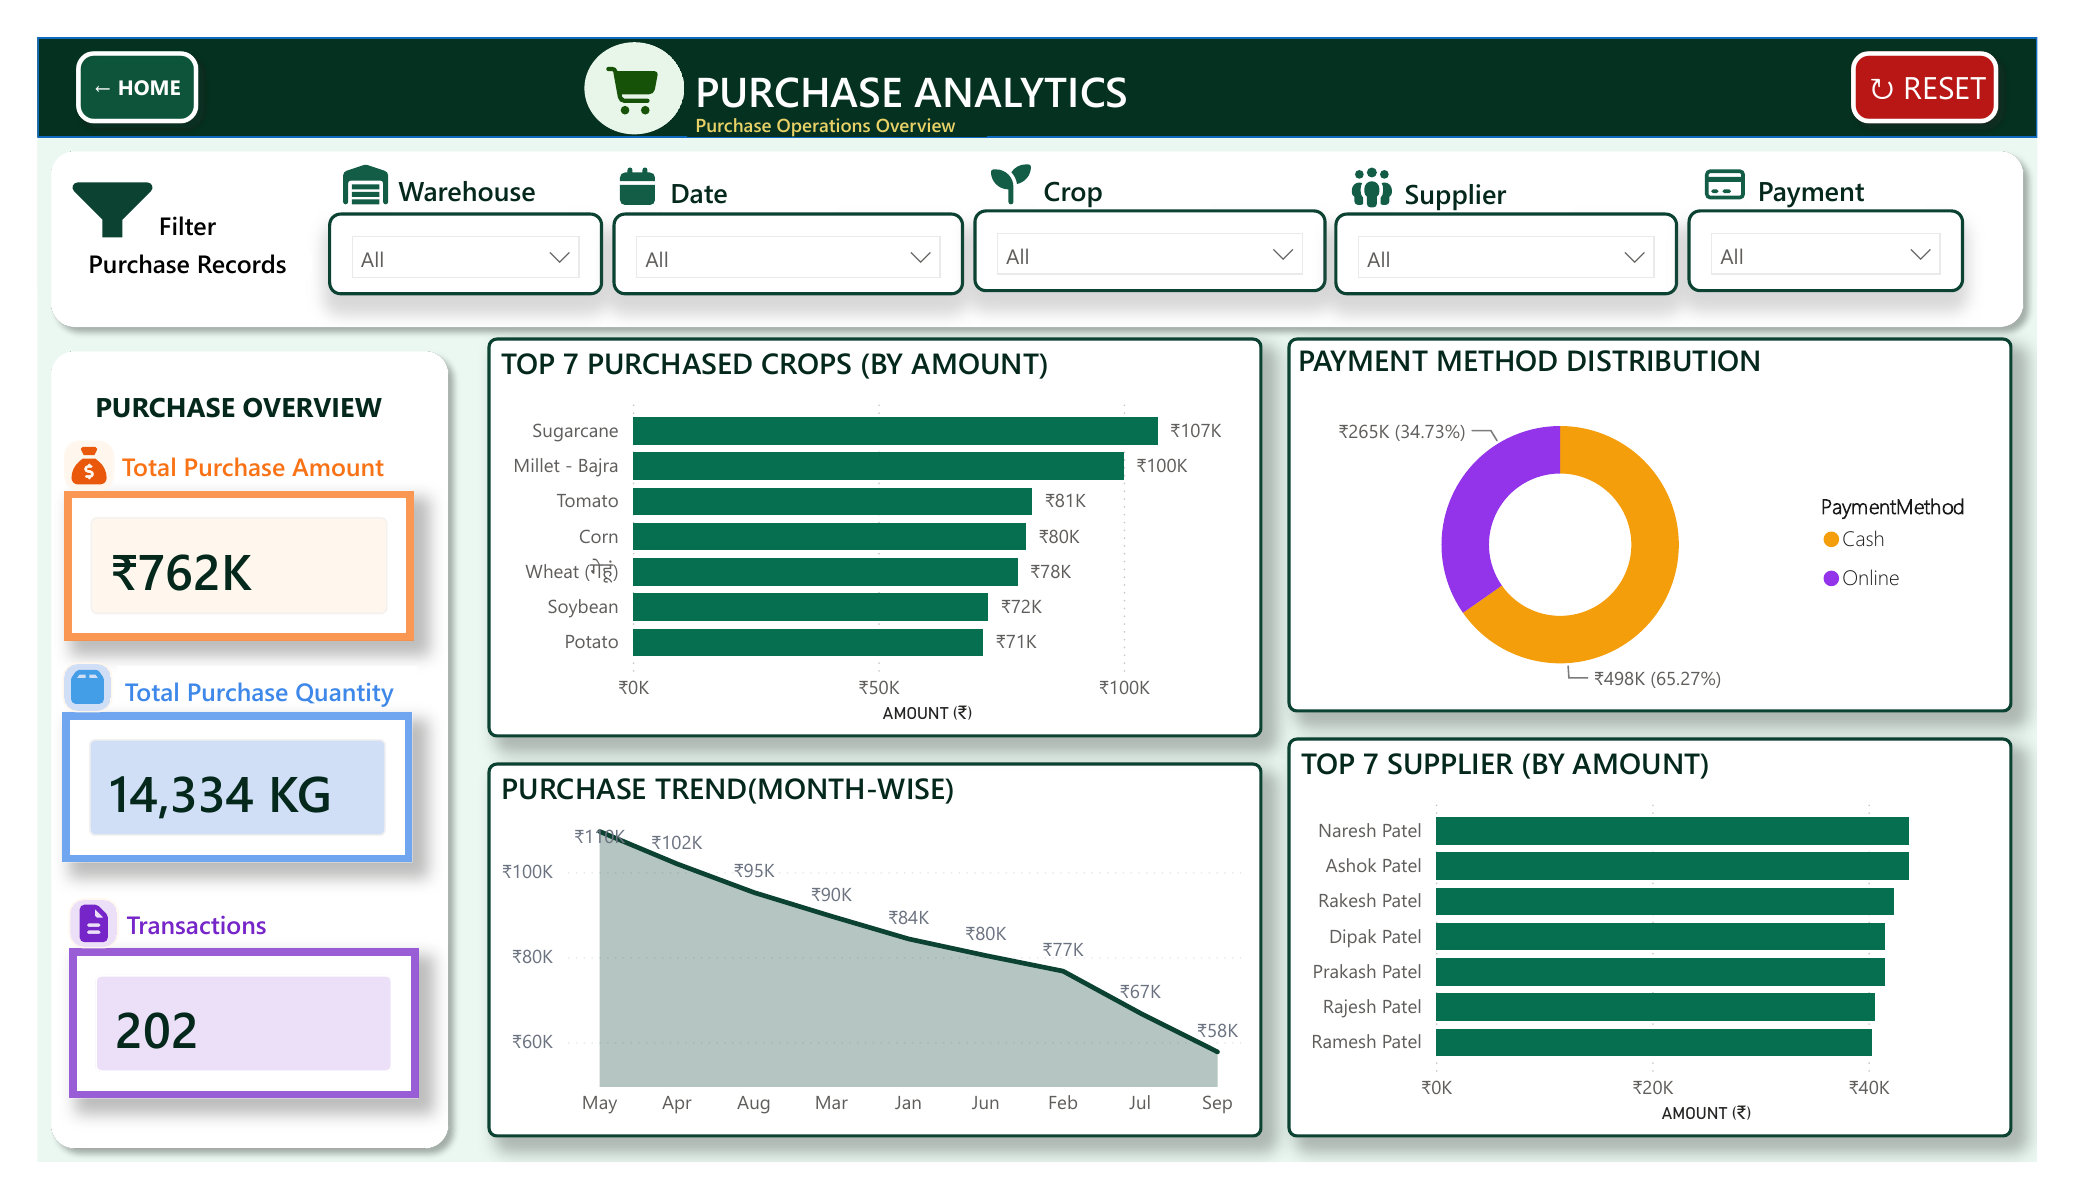

This screenshot's page, from the dashboard's own definition file:
{"tool":"powerbi","page":{"name":"PURCHASE ANALYTICS","canvas":[1280,720],"ordinal":1},"visuals":[{"type":"shape","box":[0,0,1280,64],"z":0},{"type":"actionButton","box":[16,0,96,64],"z":1000},{"type":"textbox","title":"PURCHASE ANALYTICS","box":[416,16,336,32],"z":2000},{"type":"textbox","title":"Purchase Operations Overview","box":[416,48,192,16],"z":3000},{"type":"actionButton","box":[1152,0,112,64],"z":4000},{"type":"shape","box":[0,64,1280,130],"z":5000},{"type":"shape","box":[64,96,64,48],"z":6000},{"type":"image","box":[16,80,64,64],"z":7000},{"type":"shape","box":[48,224,128,16],"z":8000},{"type":"slicer","title":"Warehouse","fields":{"Values":["Purchase.Warehouse"]},"box":[186,112.2,176,53],"z":9000},{"type":"image","box":[194.2,78.4,32,32],"z":10000},{"type":"shape","box":[0,192,272,528],"z":11000},{"type":"textbox","title":"Warehouse","box":[226.2,86.4,112,24],"z":12000},{"type":"slicer","title":"Warehouse","fields":{"Values":["Purchase.PurchaseDate"]},"box":[368,112,225,53],"z":13000},{"type":"image","box":[368,80,32,32],"z":14000},{"type":"textbox","title":"Date","box":[400,80,112,32],"z":15000},{"type":"slicer","title":"Warehouse","fields":{"Values":["Purchase.Crop"]},"box":[599.3,109.6,226,53],"z":16000},{"type":"image","box":[607.3,77.6,32,32],"z":17000},{"type":"textbox","title":"Crop","box":[639.3,85.6,112,24],"z":18000},{"type":"slicer","title":"Warehouse","fields":{"Values":["Purchase.FarmerName"]},"box":[830.4,112,220,53],"z":19000},{"type":"image","box":[838.4,80,32,32],"z":20000},{"type":"textbox","title":"Supplier","box":[870.4,88,112,24],"z":21000},{"type":"slicer","title":"Warehouse","fields":{"Values":["Purchase.PaymentMethod"]},"box":[1056.2,110.2,177,53],"z":22000},{"type":"image","box":[1064.2,78.2,32,32],"z":23000},{"type":"textbox","title":"Payment","box":[1096.2,86.2,112,24],"z":24000},{"type":"shape","box":[16,128,160,32],"z":25000},{"type":"shape","box":[350.2,0,64,64],"z":26000},{"type":"image","box":[350.2,16,64,37],"z":27000},{"type":"textbox","title":"PURCHASE OVERVIEW","box":[32,224,208,32],"z":28000},{"type":"textbox","title":"Total Purchase Amount","box":[49.1,258.3,192,32],"z":29000},{"type":"cardVisual","fields":{"Data":["Purchase.Total Purchase Amount"]},"box":[17.1,290.3,224,96],"z":30000},{"type":"image","box":[17.1,258.3,32,32],"z":31000},{"type":"textbox","title":"Total Purchase Quantity","box":[51.1,401.7,192,32],"z":32000},{"type":"cardVisual","fields":{"Data":["Purchase.Total Purchase Quantity"]},"box":[16,432,224,96],"z":33000},{"type":"image","box":[16,400,32,32],"z":34000},{"type":"textbox","title":"Transactions","box":[51.7,550.5,192,32],"z":35000},{"type":"cardVisual","fields":{"Data":["Purchase.Total Purchase Rows"]},"box":[19.7,582.5,224,96],"z":36000},{"type":"image","box":[19.7,550.5,32,32],"z":37000},{"type":"lineChart","title":"PURCHASE TREND(MONTH-WISE)","fields":{"Y":["Purchase.Total Purchase Amount"],"Category":["Purchase.Purchase Month Short"]},"box":[288,464,496,240],"z":38000},{"type":"clusteredBarChart","title":"TOP 7 PURCHASED CROPS (BY AMOUNT)","fields":{"Category":["Purchase.Crop"],"Y":["Purchase.Total Purchase Amount"]},"box":[288,192,496,256],"z":39000},{"type":"clusteredBarChart","title":"TOP 7 SUPPLIER (BY AMOUNT)","fields":{"Y":["Purchase.Total Purchase Amount"],"Category":["Purchase.FarmerName"]},"box":[800,448,464,256],"z":40000},{"type":"donutChart","title":"PAYMENT METHOD DISTRIBUTION","fields":{"Category":["Purchase.PaymentMethod"],"Y":["Purchase.Total Purchase Amount"]},"box":[800,192,464,240],"z":41000}]}

Visuals, with their boxes on the page's 1280x720 design canvas (x1, y1, x2, y2). These are canvas units, not pixel positions in the 2075x1200 screenshot, which may show the page scaled, cropped or inside an application window:
shape: <region>0, 0, 1280, 64</region>
actionButton: <region>16, 0, 112, 64</region>
"PURCHASE ANALYTICS" textbox: <region>416, 16, 752, 48</region>
"Purchase Operations Overview" textbox: <region>416, 48, 608, 64</region>
actionButton: <region>1152, 0, 1264, 64</region>
shape: <region>0, 64, 1280, 194</region>
shape: <region>64, 96, 128, 144</region>
image: <region>16, 80, 80, 144</region>
shape: <region>48, 224, 176, 240</region>
"Warehouse" slicer: <region>186, 112, 362, 165</region>
image: <region>194, 78, 226, 110</region>
shape: <region>0, 192, 272, 720</region>
"Warehouse" textbox: <region>226, 86, 338, 110</region>
"Warehouse" slicer: <region>368, 112, 593, 165</region>
image: <region>368, 80, 400, 112</region>
"Date" textbox: <region>400, 80, 512, 112</region>
"Warehouse" slicer: <region>599, 110, 825, 163</region>
image: <region>607, 78, 639, 110</region>
"Crop" textbox: <region>639, 86, 751, 110</region>
"Warehouse" slicer: <region>830, 112, 1050, 165</region>
image: <region>838, 80, 870, 112</region>
"Supplier" textbox: <region>870, 88, 982, 112</region>
"Warehouse" slicer: <region>1056, 110, 1233, 163</region>
image: <region>1064, 78, 1096, 110</region>
"Payment" textbox: <region>1096, 86, 1208, 110</region>
shape: <region>16, 128, 176, 160</region>
shape: <region>350, 0, 414, 64</region>
image: <region>350, 16, 414, 53</region>
"PURCHASE OVERVIEW" textbox: <region>32, 224, 240, 256</region>
"Total Purchase Amount" textbox: <region>49, 258, 241, 290</region>
cardVisual - Purchase.Total Purchase Amount: <region>17, 290, 241, 386</region>
image: <region>17, 258, 49, 290</region>
"Total Purchase Quantity" textbox: <region>51, 402, 243, 434</region>
cardVisual - Purchase.Total Purchase Quantity: <region>16, 432, 240, 528</region>
image: <region>16, 400, 48, 432</region>
"Transactions" textbox: <region>52, 550, 244, 582</region>
cardVisual - Purchase.Total Purchase Rows: <region>20, 582, 244, 678</region>
image: <region>20, 550, 52, 582</region>
"PURCHASE TREND(MONTH-WISE)" lineChart: <region>288, 464, 784, 704</region>
"TOP 7 PURCHASED CROPS (BY AMOUNT)" clusteredBarChart: <region>288, 192, 784, 448</region>
"TOP 7 SUPPLIER (BY AMOUNT)" clusteredBarChart: <region>800, 448, 1264, 704</region>
"PAYMENT METHOD DISTRIBUTION" donutChart: <region>800, 192, 1264, 432</region>
